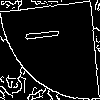I: (25, 25, 68, 44)
